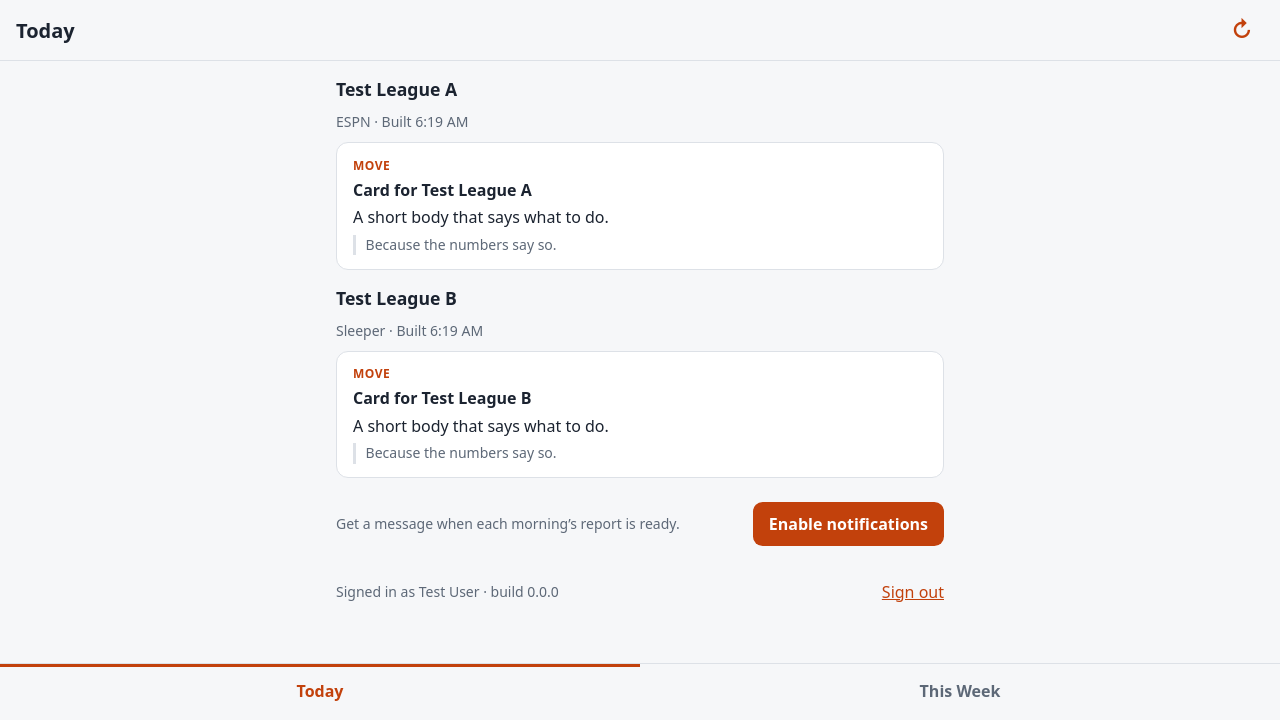
Test: notifications › shows the control below the report, and turns them on from a tap
Click the button "Enable notifications" at [848, 524], box [753,502,944,546]
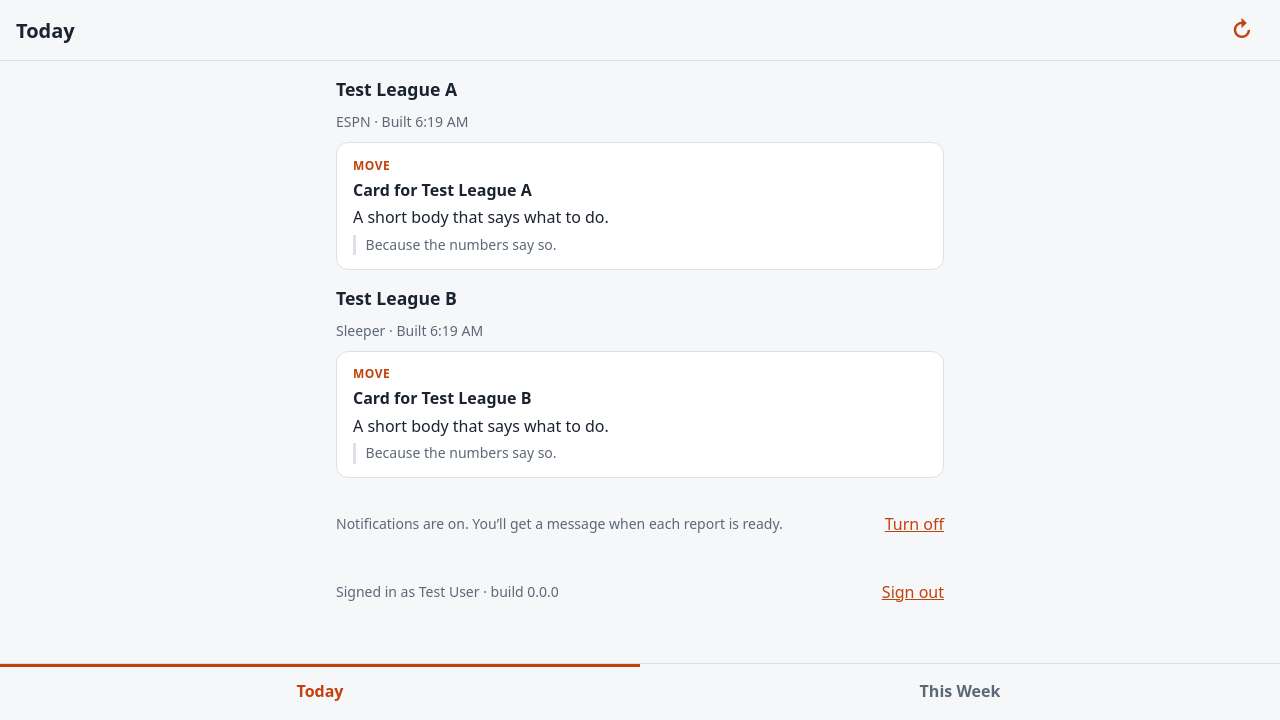
Expected: the button "Turn off" is shown, [885,502,944,546]
